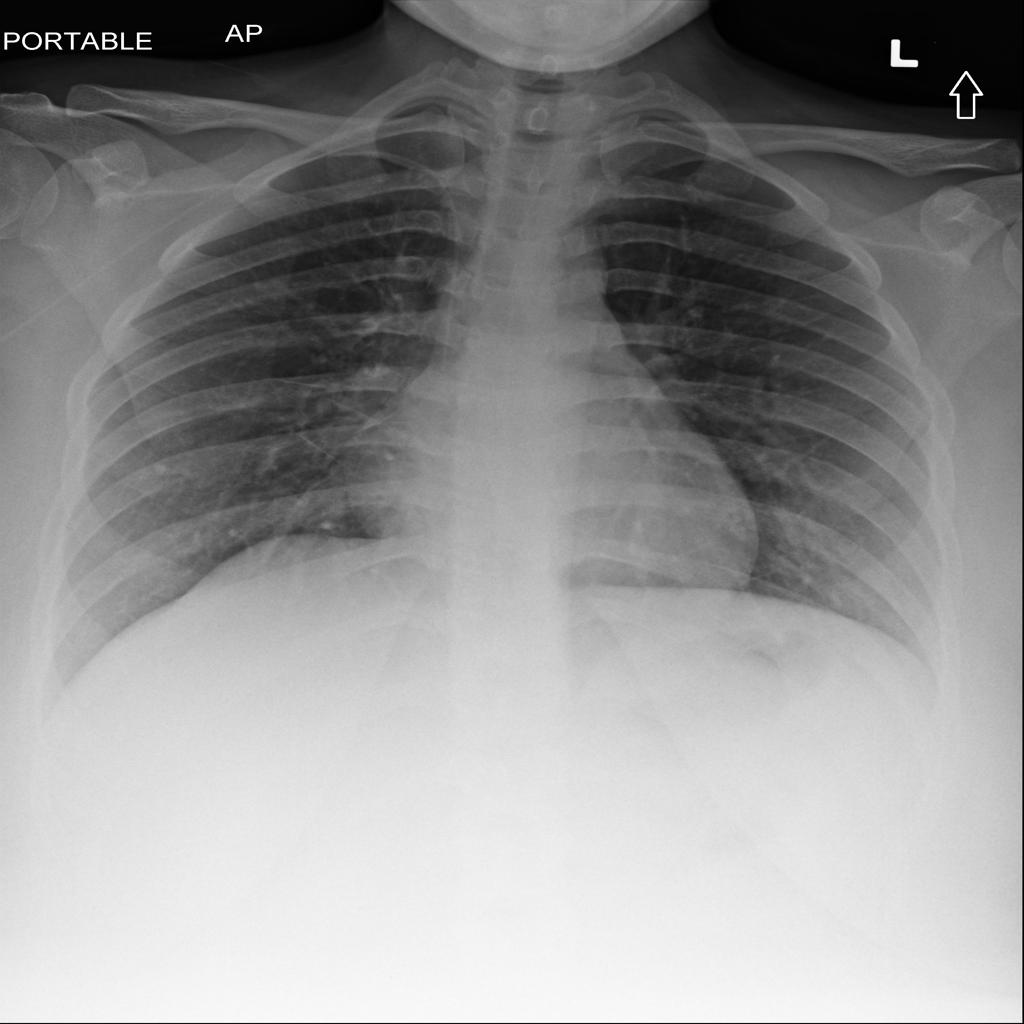nodule: (143, 457, 178, 480)
